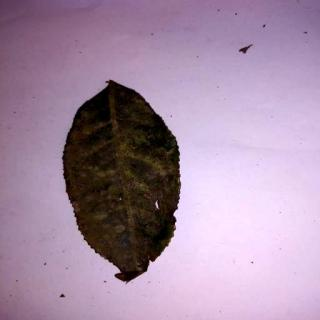Anthracnose: (64, 77, 184, 285)
